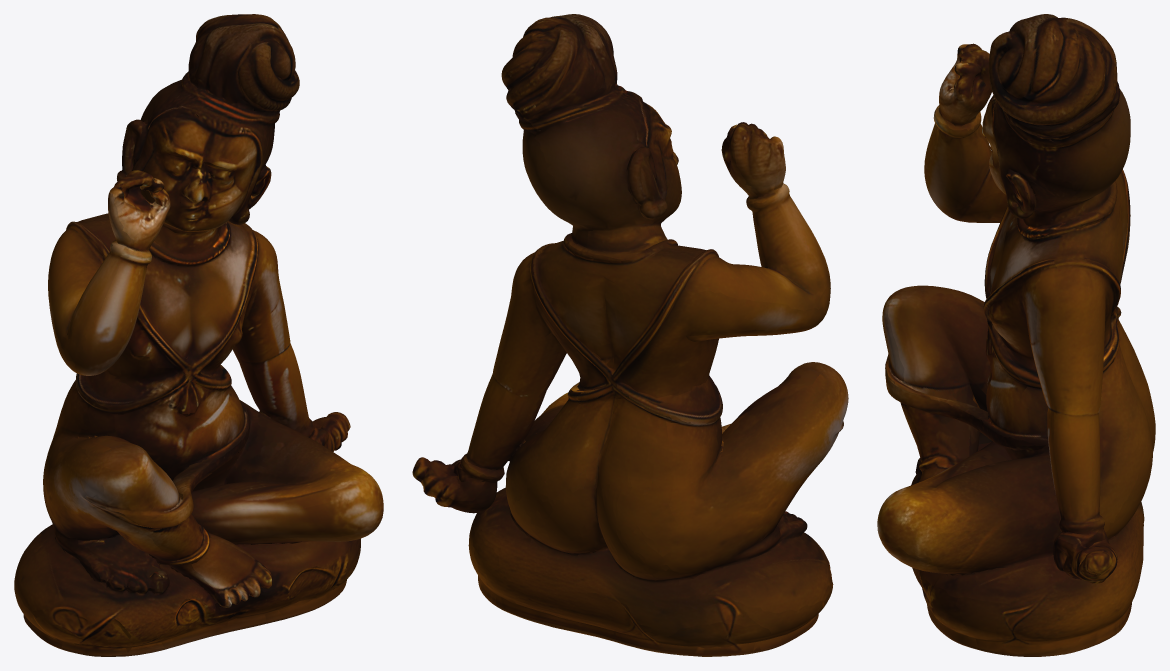
3 views of the same model, side by side, from view 1: azimuth 30°, elevation 25°; view 2: azimuth 150°, elevation 25°; view 3: azimuth 270°, elevation 25° (orthographic). The views are drawn at different scales.
Visible parts, largest first — view 1: textured_mesh; view 2: textured_mesh; view 3: textured_mesh.
Boxes of the visible parts, <box> form: textured_mesh: <box>14,14,383,656</box>; textured_mesh: <box>412,14,848,656</box>; textured_mesh: <box>877,14,1155,656</box>.
Size of the model in its own units: 1.34 by 1.99 by 0.8441.
1 material, 1 textured.
